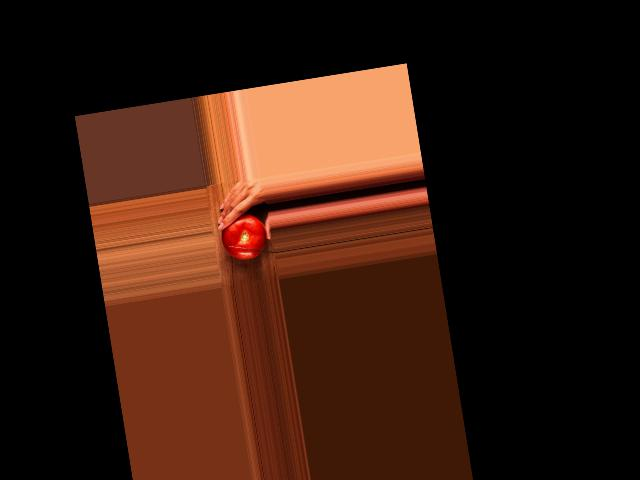tomato: (219, 211, 269, 262)
